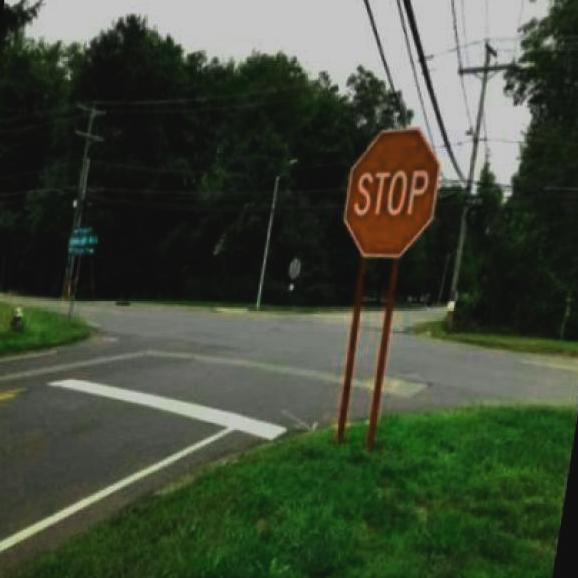stop_sign: (336, 118, 449, 273)
